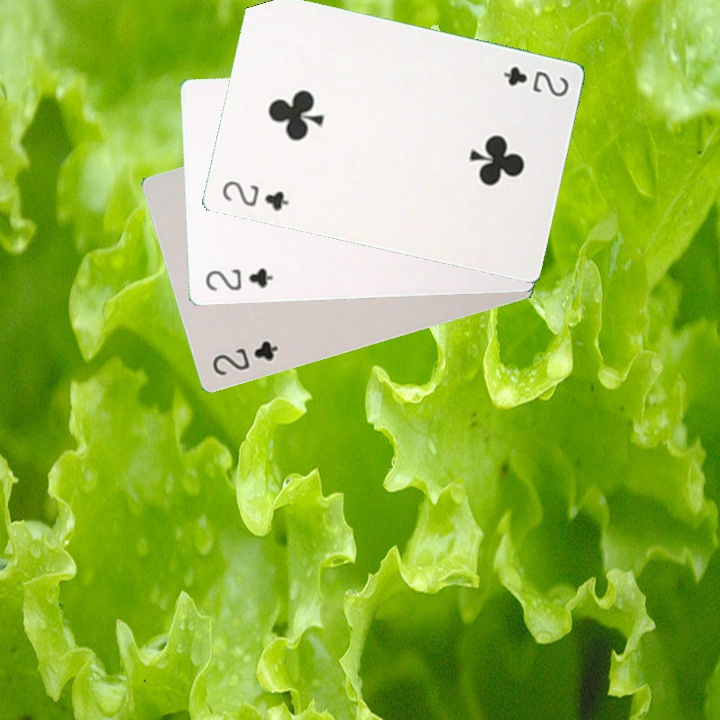2c: (208, 337, 281, 378), (218, 176, 292, 214), (499, 62, 572, 100), (202, 264, 276, 293)
